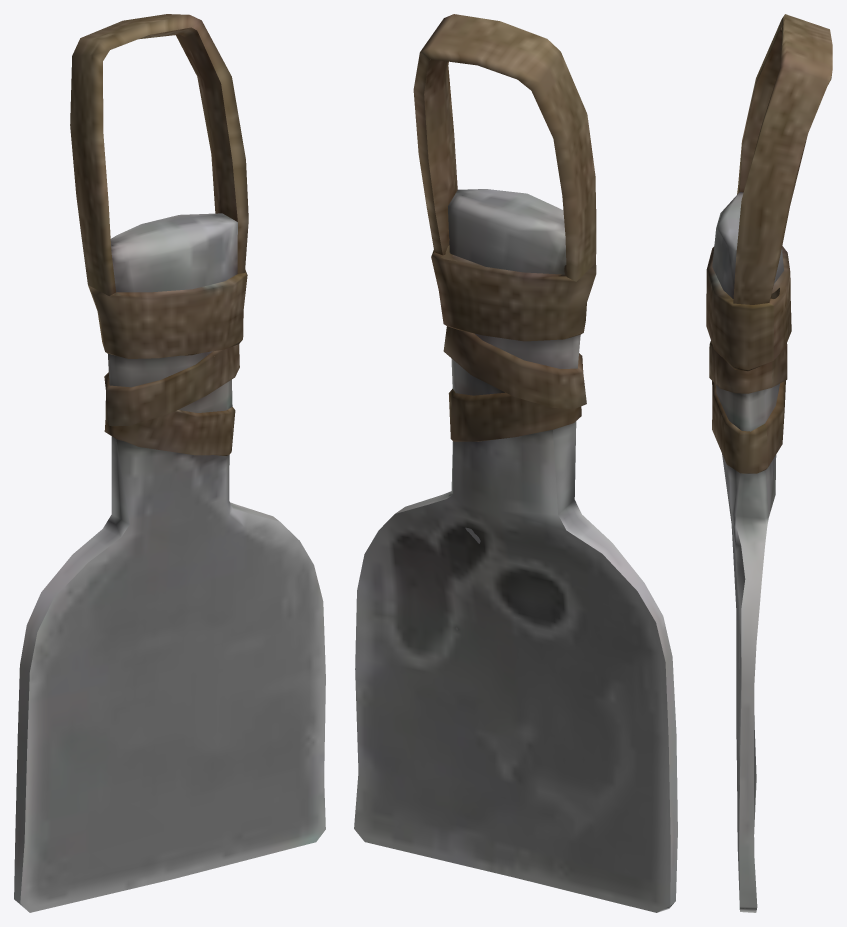
3 renders of one model, left to right at view 1: azimuth 30°, elevation 25°; view 2: azimuth 150°, elevation 25°; view 3: azimuth 270°, elevation 25°, orthographic. The views are drawn at different scales.
Parts seen in each view (by area): view 1: SM_Crafting_Table_Tool_01_LOD0; view 2: SM_Crafting_Table_Tool_01_LOD0; view 3: SM_Crafting_Table_Tool_01_LOD0.
Part boxes in pixels (x1,y1,x2,y2): SM_Crafting_Table_Tool_01_LOD0: (14, 14, 325, 912); SM_Crafting_Table_Tool_01_LOD0: (354, 14, 677, 912); SM_Crafting_Table_Tool_01_LOD0: (706, 14, 832, 912).
Size of the model in its own units: 0.1406 by 0.3696 by 0.052.
1 material, 1 textured.
